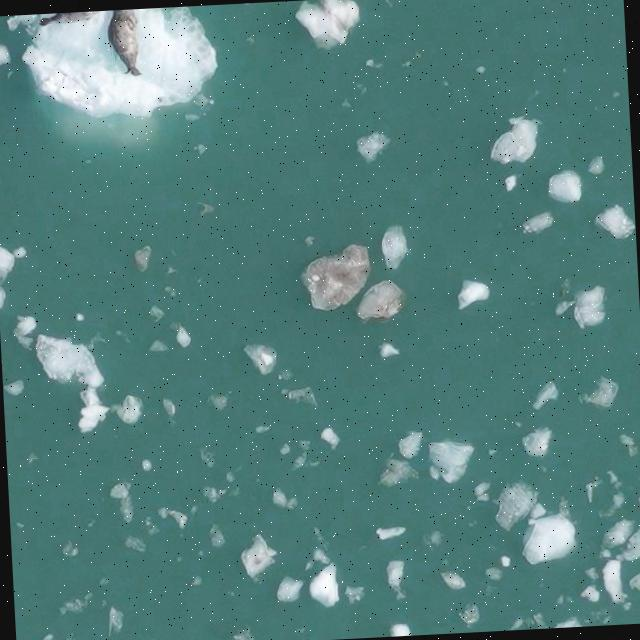seal: (108, 9, 143, 78), (42, 11, 99, 24)
